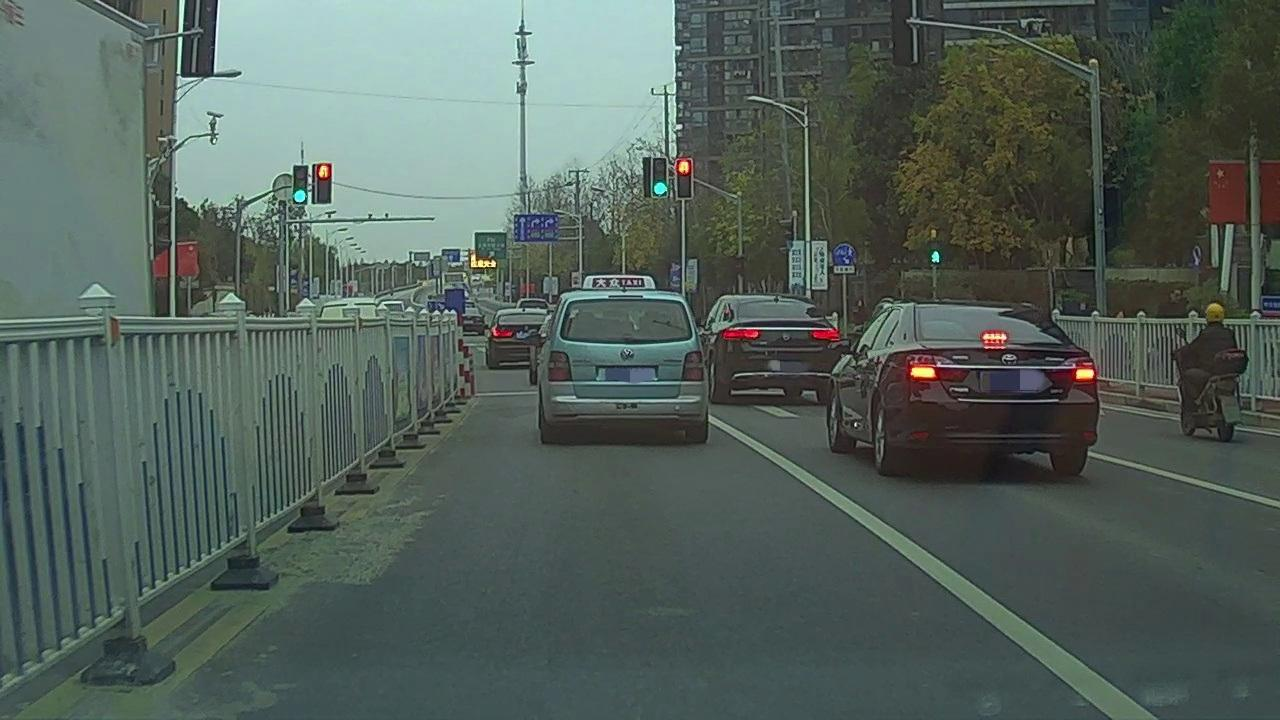traffic_light: (674, 157, 690, 197), (317, 166, 333, 205), (653, 159, 667, 196), (296, 167, 307, 205)
